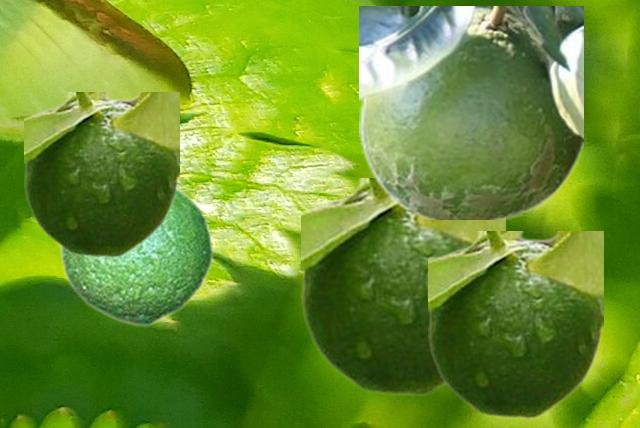dalandan: (359, 6, 582, 218), (301, 178, 504, 394), (428, 231, 602, 417), (24, 92, 178, 256), (58, 186, 213, 326)
